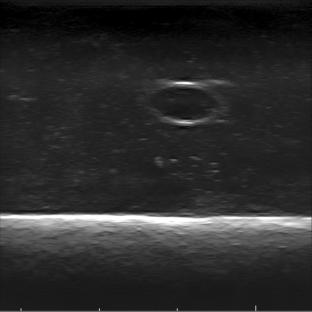vessel: (148, 80, 217, 125)
